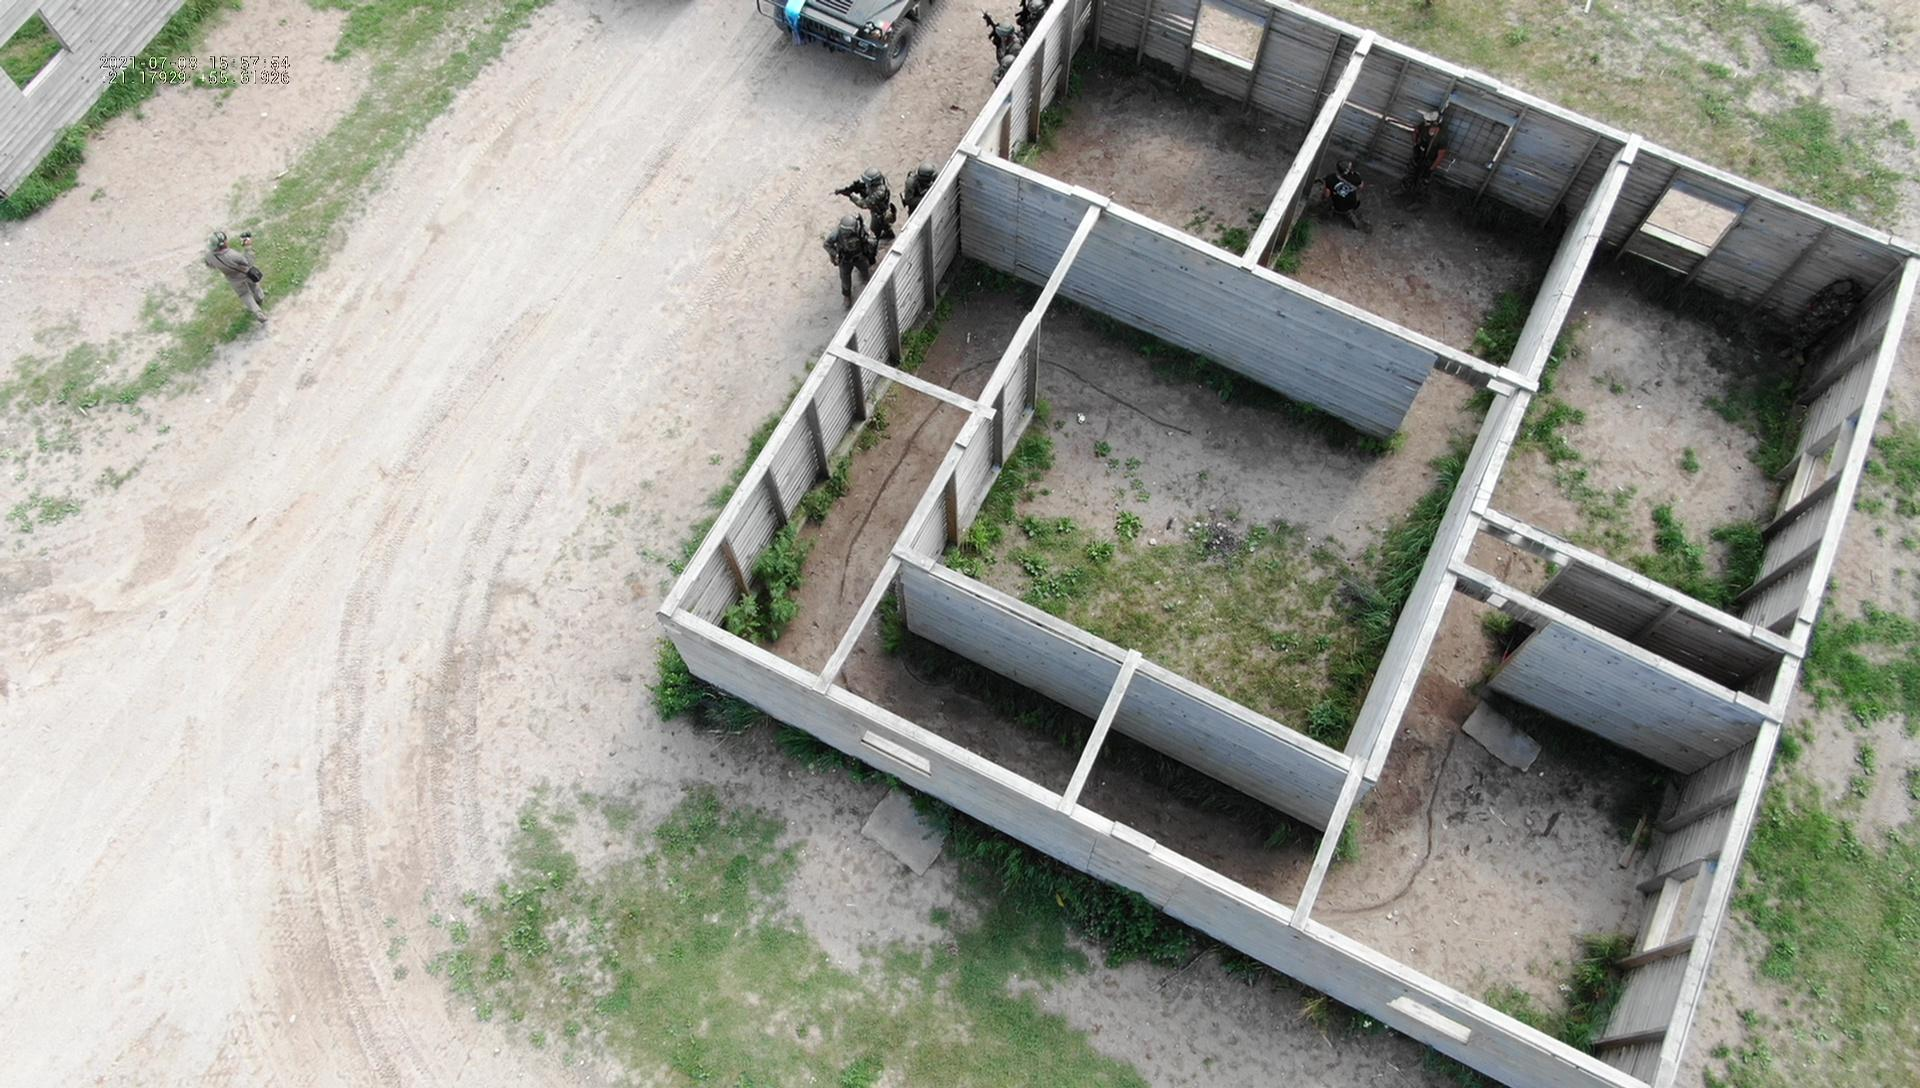Soldier: (175, 212, 280, 317), (1398, 108, 1464, 233), (822, 199, 886, 306), (1316, 146, 1385, 247), (849, 167, 903, 252), (982, 13, 1034, 59), (909, 150, 943, 204)
